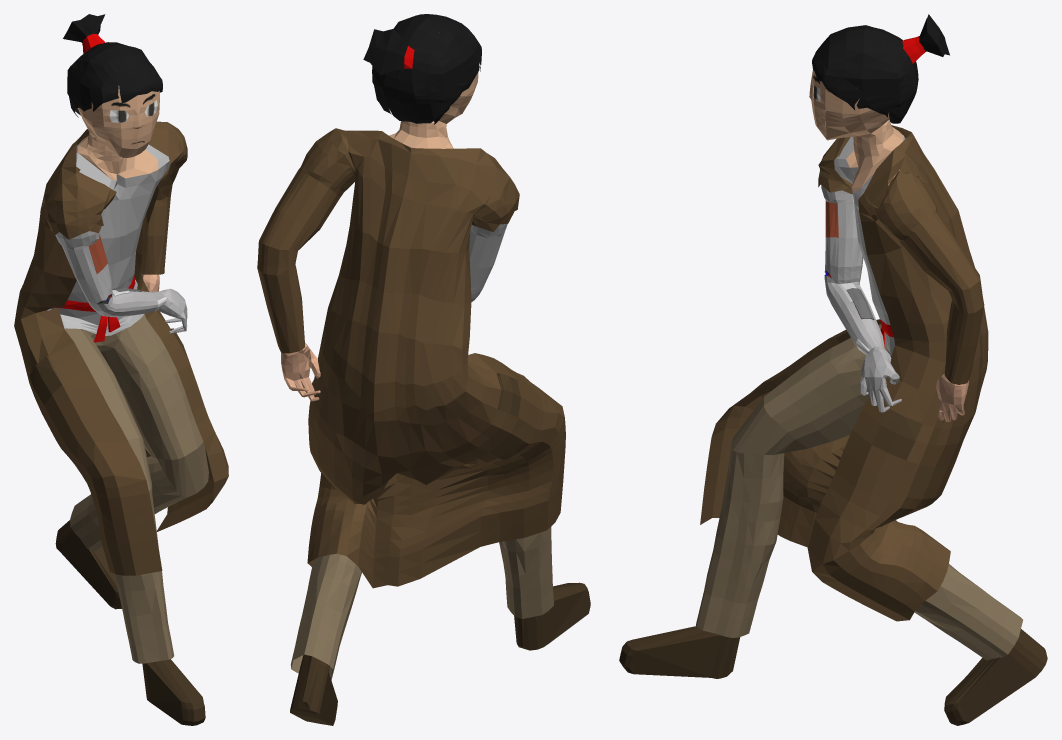
File: One_DB_000009.obj
3 views of the same model, side by side, from view 1: azimuth 30°, elevation 25°; view 2: azimuth 150°, elevation 25°; view 3: azimuth 270°, elevation 25° (orthographic). The views are drawn at different scales.
Parts seen in each view (by area): view 1: Hair_Cube.004; view 2: Hair_Cube.004; view 3: Hair_Cube.004.
Boxes of the visible parts, bbox=[...] form: Hair_Cube.004: bbox=[14, 14, 228, 725]; Hair_Cube.004: bbox=[257, 14, 590, 725]; Hair_Cube.004: bbox=[619, 14, 1047, 725].
Size of the model in its own units: 1.09 by 3.57 by 2.04.
